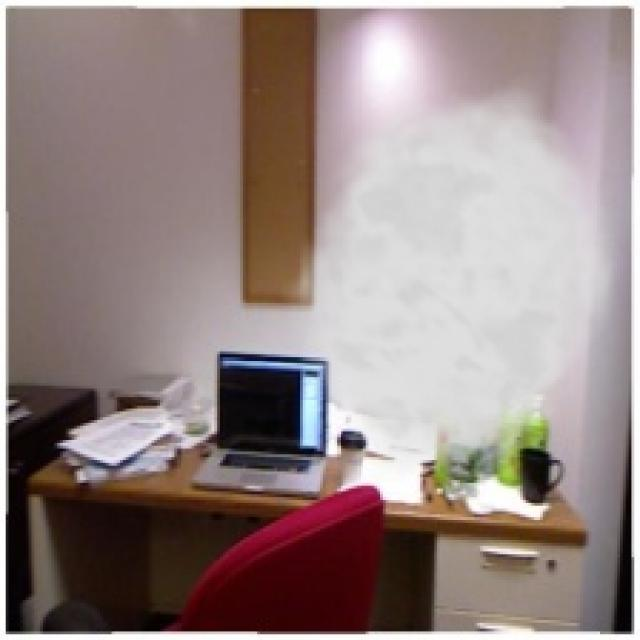Smoke: (280, 71, 626, 483)
